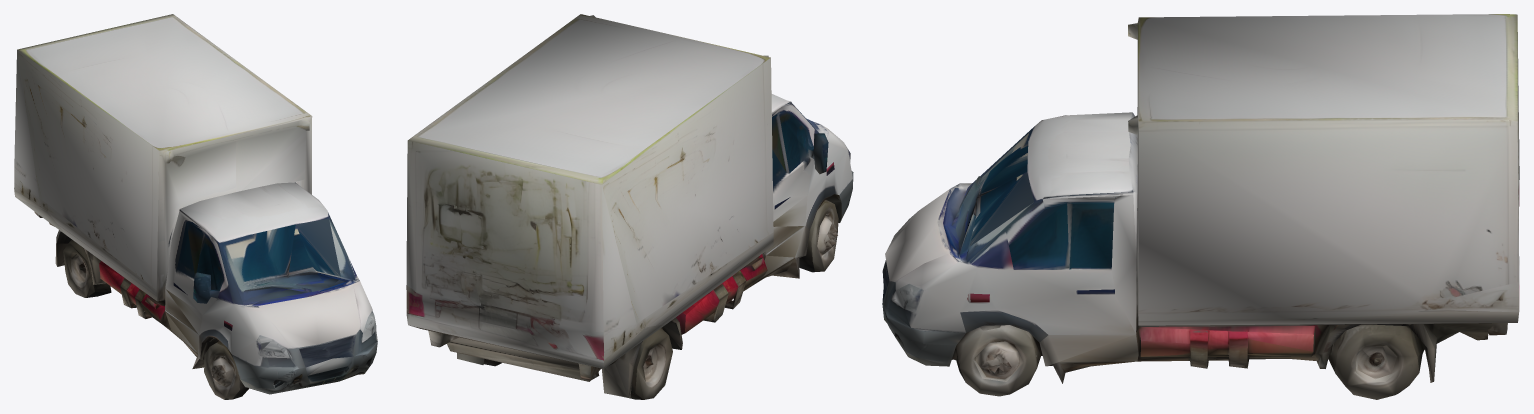
Rendered from газелька.fbx.
3 views of the same model, side by side, from view 1: azimuth 30°, elevation 25°; view 2: azimuth 150°, elevation 25°; view 3: azimuth 270°, elevation 25° (orthographic). The views are drawn at different scales.
Parts seen in each view (by area): view 1: texture_pbr_v128; view 2: texture_pbr_v128; view 3: texture_pbr_v128.
Part boxes in pixels (box(x1,y1,x2,y2)): texture_pbr_v128: box(14, 14, 377, 399); texture_pbr_v128: box(406, 14, 853, 399); texture_pbr_v128: box(882, 14, 1519, 399).
Bounding box in the file's own units: 40.43 × 51.75 × 102.
Materials: 1 (1 with a texture image).
